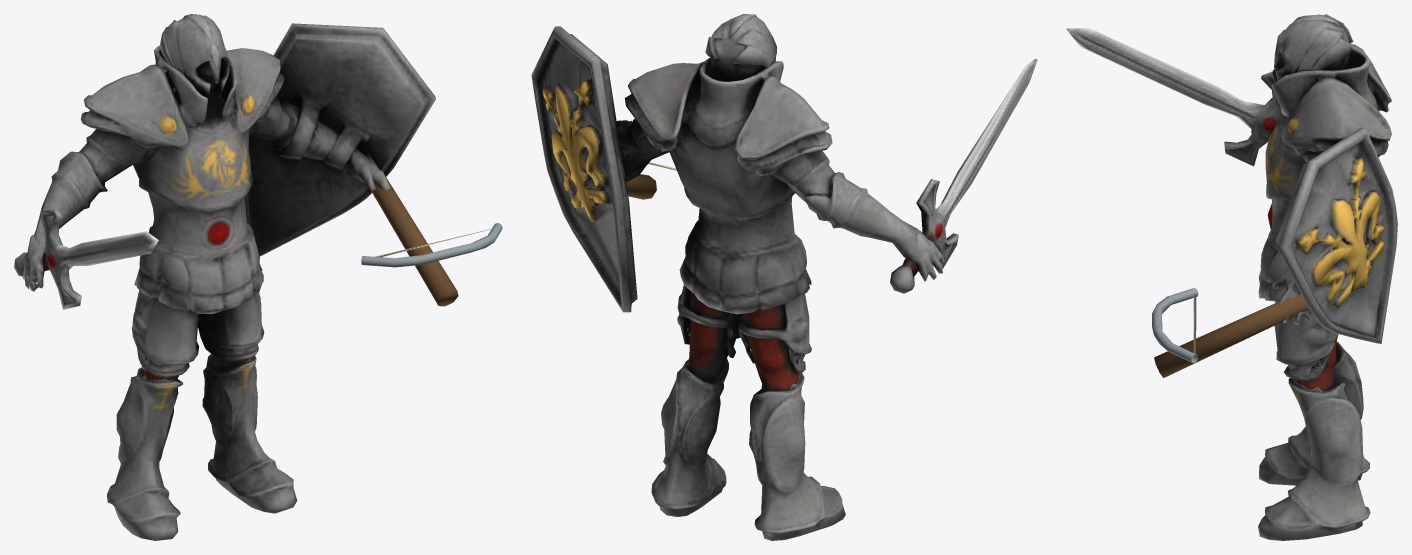
Rendered from actor-crossbowman-mobile.glb.
The picture shows the model from 3 angles, left to right: view 1: azimuth 30°, elevation 25°; view 2: azimuth 150°, elevation 25°; view 3: azimuth 270°, elevation 25°; orthographic projection.
Visible parts, largest first — view 1: Group61487.001 · posed; view 2: Group61487.001 · posed; view 3: Group61487.001 · posed.
Boxes of the visible parts, left/top/right/bottom form: Group61487.001 · posed: left=14, top=14, right=502, bottom=540; Group61487.001 · posed: left=531, top=14, right=1037, bottom=540; Group61487.001 · posed: left=1066, top=14, right=1397, bottom=540.
Bounding box in the file's own units: 1.81 × 2 × 1.22.
Materials: 4 (1 with a texture image).
